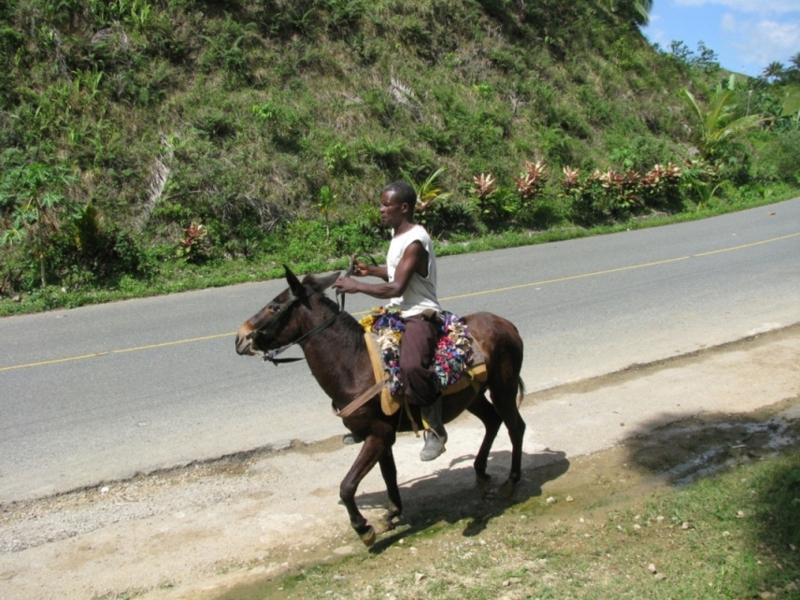person: (332, 184, 451, 463)
